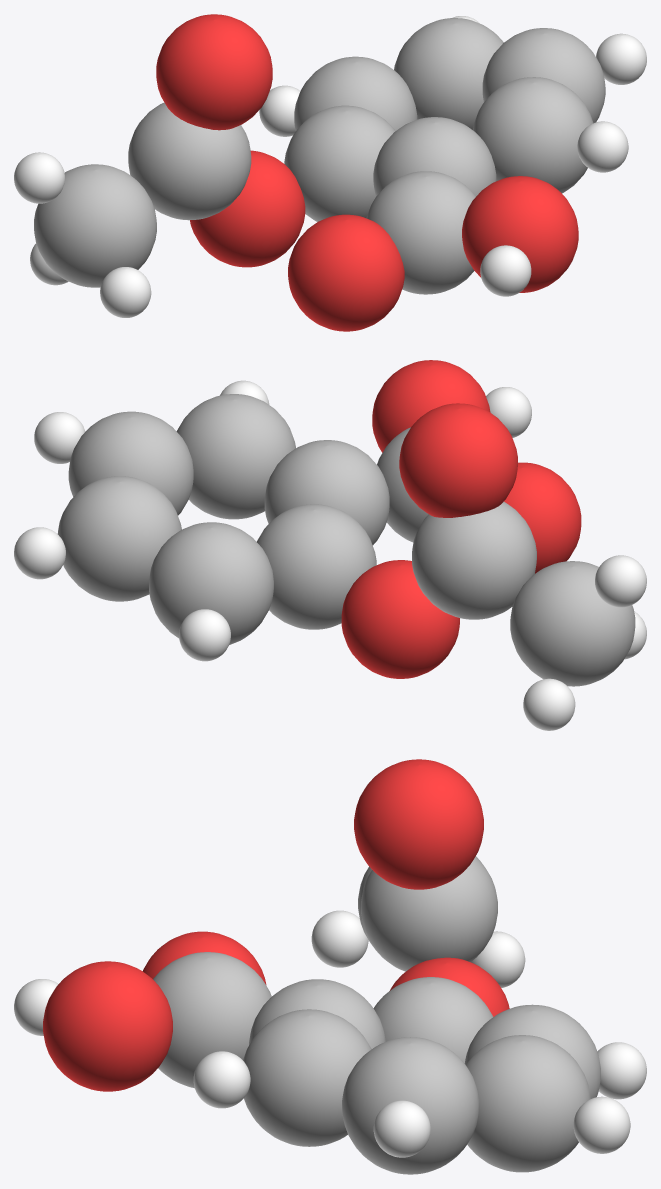
The model's file is aspirin.glb.
The picture shows the model from 3 angles, top to bottom: view 1: azimuth 30°, elevation 25°; view 2: azimuth 150°, elevation 25°; view 3: azimuth 270°, elevation 25°; orthographic projection. The views are drawn at different scales.
Parts seen in each view (by area): view 1: Carbon_ball_16, Oxygen_ball, Oxygen_ball_4, Carbon_ball_14, Carbon_ball, Carbon_ball_12, Oxygen_ball_2, Carbon_ball_10, Carbon_ball_8, Oxygen_ball_6, Carbon_ball_4, Carbon_ball_6 (+9 smaller); view 2: Carbon_ball_16, Carbon_ball_8, Carbon_ball_14, Oxygen_ball_4, Carbon_ball_2, Carbon_ball_10, Carbon_ball, Oxygen_ball_6, Carbon_ball_4, Carbon_ball_6, Oxygen_ball_2, Oxygen_ball (+11 smaller); view 3: Oxygen_ball_2, Oxygen_ball_4, Carbon_ball_8, Carbon_ball, Carbon_ball_6, Carbon_ball_14, Carbon_ball_12, Carbon_ball_10, Carbon_ball_2, Carbon_ball_4, Hydrogen_ball_2, Hydrogen_ball (+7 smaller).
Boxes of the visible parts, left/top/right/bottom form: Carbon_ball_16: left=34, top=164, right=156, bottom=287; Oxygen_ball: left=288, top=214, right=404, bottom=331; Oxygen_ball_4: left=156, top=14, right=272, bottom=130; Carbon_ball_14: left=128, top=102, right=251, bottom=220; Carbon_ball: left=473, top=77, right=593, bottom=193; Carbon_ball_12: left=366, top=171, right=475, bottom=294; Oxygen_ball_2: left=462, top=176, right=578, bottom=292; Carbon_ball_10: left=284, top=105, right=395, bottom=221; Carbon_ball_8: left=394, top=18, right=503, bottom=129; Oxygen_ball_6: left=190, top=150, right=305, bottom=267; Carbon_ball_4: left=373, top=117, right=496, bottom=196; Carbon_ball_6: left=482, top=28, right=605, bottom=123; Carbon_ball_16: left=510, top=561, right=635, bottom=686; Carbon_ball_8: left=57, top=476, right=181, bottom=601; Carbon_ball_14: left=412, top=501, right=536, bottom=619; Oxygen_ball_4: left=399, top=403, right=517, bottom=517; Carbon_ball_2: left=149, top=522, right=273, bottom=644; Carbon_ball_10: left=257, top=504, right=376, bottom=629; Carbon_ball: left=176, top=394, right=295, bottom=519; Oxygen_ball_6: left=341, top=560, right=459, bottom=678; Carbon_ball_4: left=264, top=440, right=389, bottom=545; Carbon_ball_6: left=68, top=411, right=193, bottom=515; Oxygen_ball_2: left=372, top=360, right=490, bottom=452; Oxygen_ball: left=504, top=462, right=581, bottom=573; Oxygen_ball_2: left=43, top=961, right=172, bottom=1091; Oxygen_ball_4: left=354, top=759, right=483, bottom=889; Carbon_ball_8: left=466, top=1035, right=590, bottom=1172; Carbon_ball: left=243, top=1009, right=371, bottom=1146; Carbon_ball_6: left=342, top=1037, right=479, bottom=1174; Carbon_ball_14: left=361, top=856, right=497, bottom=971; Carbon_ball_12: left=153, top=952, right=271, bottom=1088; Carbon_ball_10: left=373, top=977, right=493, bottom=1062; Carbon_ball_2: left=464, top=1004, right=600, bottom=1098; Carbon_ball_4: left=249, top=979, right=385, bottom=1048; Hydrogen_ball_2: left=373, top=1100, right=430, bottom=1157; Hydrogen_ball: left=193, top=1051, right=250, bottom=1108.
Bounding box in the file's own units: 8.8 × 3.61 × 7.08.
